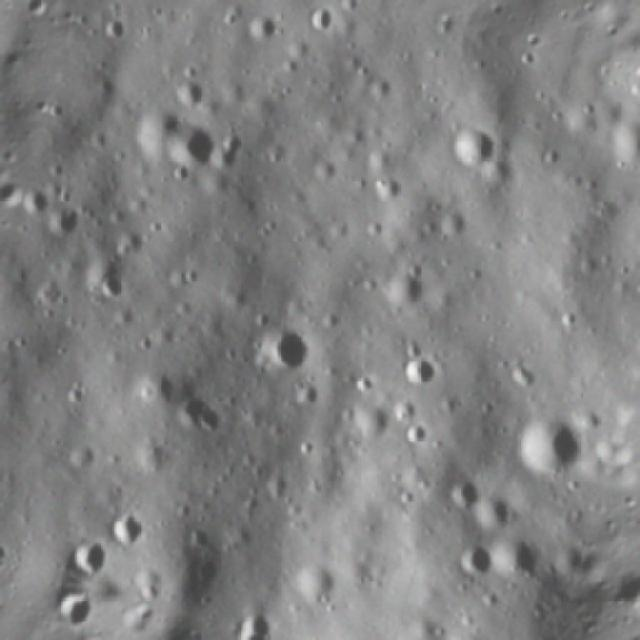crater: (499, 396, 592, 487), (252, 317, 328, 394), (436, 107, 510, 181), (161, 111, 233, 187), (128, 93, 192, 165), (170, 383, 236, 446), (484, 526, 551, 588), (372, 262, 437, 324), (387, 342, 450, 402), (598, 105, 640, 177), (104, 501, 156, 559), (44, 194, 99, 248), (290, 555, 345, 608), (65, 530, 121, 582), (240, 0, 292, 51), (61, 430, 108, 482), (439, 467, 487, 516), (88, 262, 137, 310), (452, 532, 498, 578), (300, 0, 349, 43), (364, 168, 410, 212), (290, 374, 335, 418), (170, 66, 213, 108), (20, 178, 63, 220), (97, 9, 134, 46)
